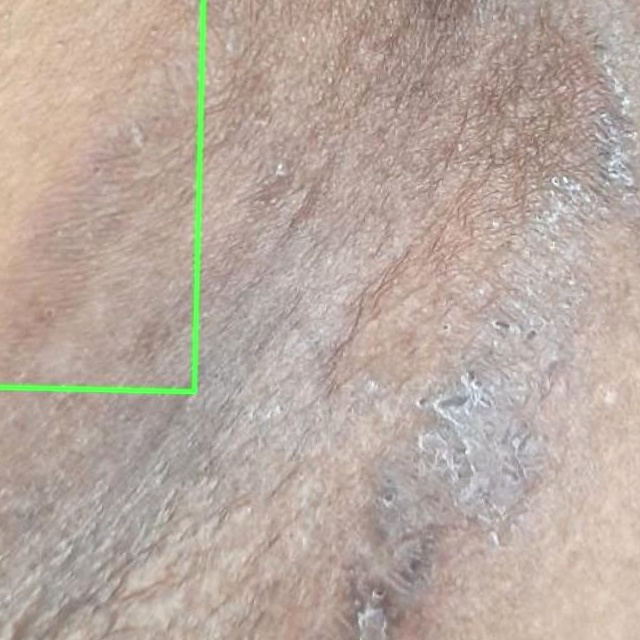Contact Dermatitis: (0, 0, 204, 393)
